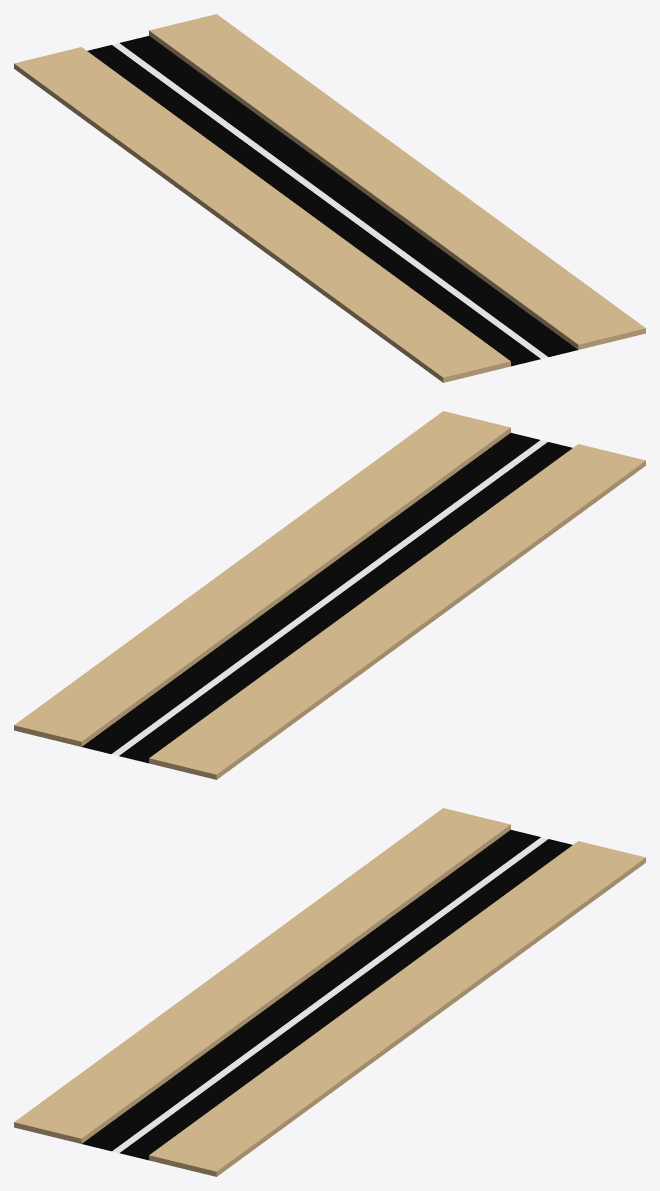
Rendered from passeio.fbx.
The picture shows the model from 3 angles, top to bottom: view 1: azimuth 30°, elevation 25°; view 2: azimuth 150°, elevation 25°; view 3: azimuth 330°, elevation 25°; orthographic projection.
Parts seen in each view (by area): view 1: Plane; view 2: Plane; view 3: Plane.
Boxes of the visible parts, <box> form: Plane: <box>14,14,645,382</box>; Plane: <box>14,411,645,779</box>; Plane: <box>14,808,645,1176</box>.
Bounding box in the file's own units: 295 × 7.3 × 1082.
